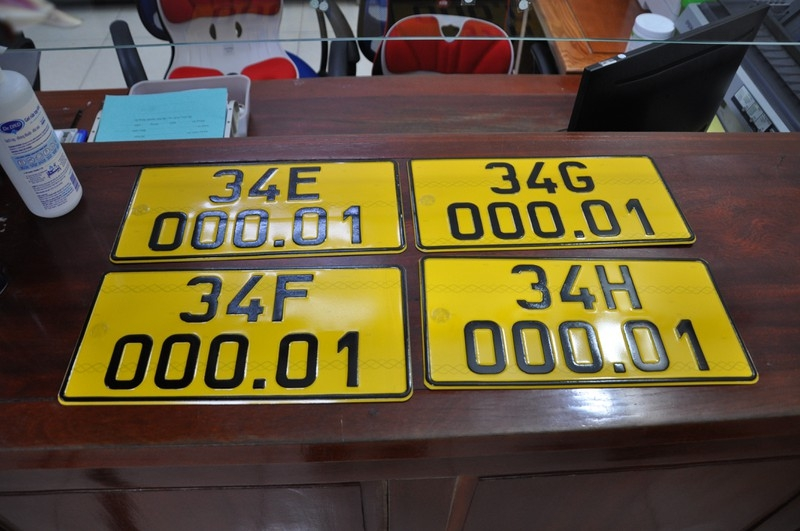plate: (51, 257, 414, 405), (413, 250, 765, 390), (110, 153, 402, 257), (404, 148, 695, 252)
